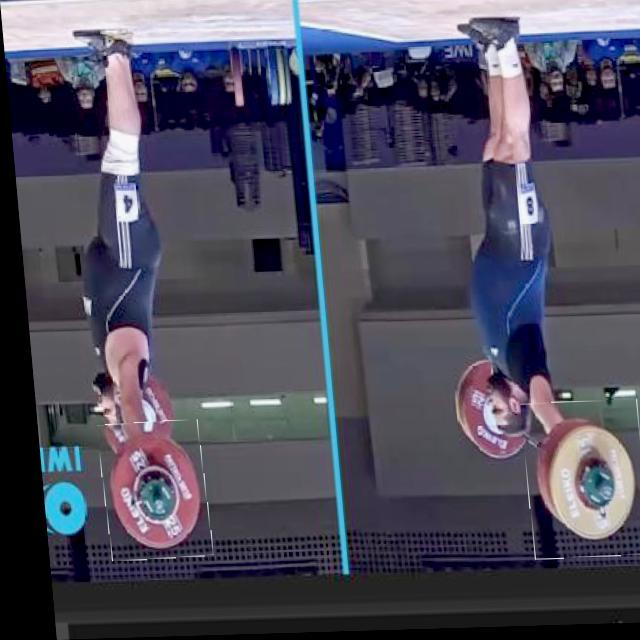barbell: (514, 404, 640, 563), (91, 422, 203, 561)
